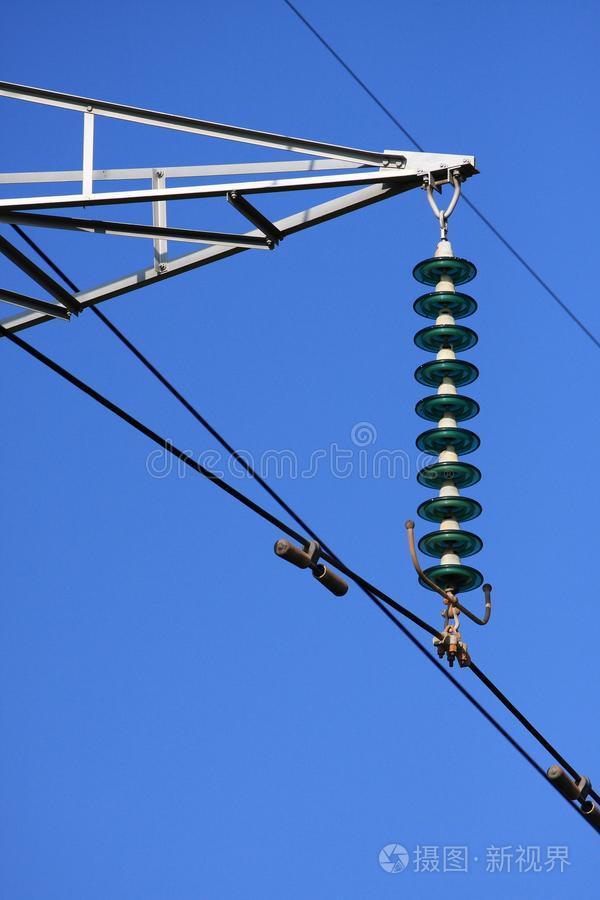insulator: (412, 253, 491, 592)
